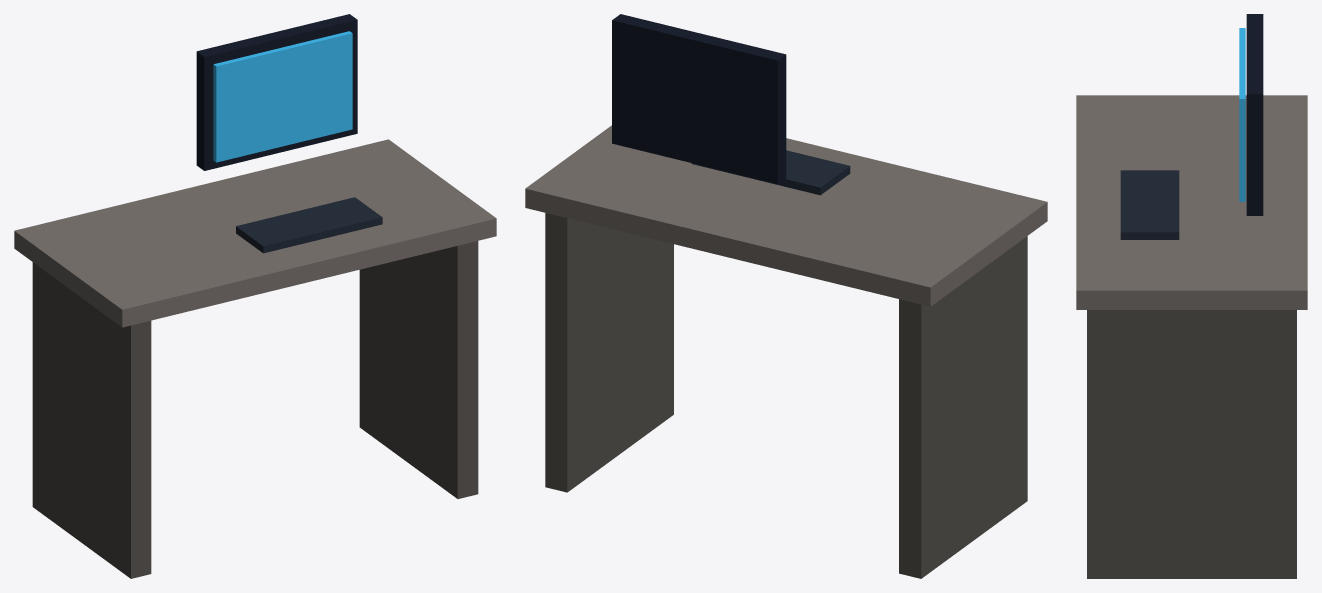
The model's file is parametric-source.glb.
3 renders of one model, left to right at view 1: azimuth 30°, elevation 25°; view 2: azimuth 150°, elevation 25°; view 3: azimuth 270°, elevation 25°, orthographic. The views are drawn at different scales.
Parts seen in each view (by area): view 1: openclinxr.equipment.observation_station_equipment.desk_surf, openclinxr.equipment.observation_station_equipment.leg_left, openclinxr.equipment.observation_station_equipment.leg_right, openclinxr.equipment.observation_station_equipment.display, openclinxr.equipment.observation_station_equipment.screen_be, openclinxr.equipment.observation_station_equipment.keyboard; view 2: openclinxr.equipment.observation_station_equipment.desk_surf, openclinxr.equipment.observation_station_equipment.leg_left, openclinxr.equipment.observation_station_equipment.leg_right, openclinxr.equipment.observation_station_equipment.screen_be, openclinxr.equipment.observation_station_equipment.keyboard; view 3: openclinxr.equipment.observation_station_equipment.leg_right, openclinxr.equipment.observation_station_equipment.desk_surf, openclinxr.equipment.observation_station_equipment.keyboard, openclinxr.equipment.observation_station_equipment.screen_be, openclinxr.equipment.observation_station_equipment.display.
Boxes of the visible parts, bbox=[...] form: openclinxr.equipment.observation_station_equipment.desk_surf: bbox=[14, 139, 496, 327]; openclinxr.equipment.observation_station_equipment.leg_left: bbox=[32, 262, 151, 578]; openclinxr.equipment.observation_station_equipment.leg_right: bbox=[359, 241, 478, 498]; openclinxr.equipment.observation_station_equipment.display: bbox=[213, 31, 352, 162]; openclinxr.equipment.observation_station_equipment.screen_be: bbox=[196, 14, 357, 170]; openclinxr.equipment.observation_station_equipment.keyboard: bbox=[236, 197, 382, 253]; openclinxr.equipment.observation_station_equipment.desk_surf: bbox=[525, 125, 1047, 306]; openclinxr.equipment.observation_station_equipment.leg_left: bbox=[899, 236, 1027, 578]; openclinxr.equipment.observation_station_equipment.leg_right: bbox=[545, 213, 673, 492]; openclinxr.equipment.observation_station_equipment.screen_be: bbox=[612, 14, 786, 183]; openclinxr.equipment.observation_station_equipment.keyboard: bbox=[691, 150, 850, 195]; openclinxr.equipment.observation_station_equipment.leg_right: bbox=[1087, 310, 1296, 578]; openclinxr.equipment.observation_station_equipment.desk_surf: bbox=[1076, 95, 1307, 309]; openclinxr.equipment.observation_station_equipment.keyboard: bbox=[1120, 170, 1179, 239]; openclinxr.equipment.observation_station_equipment.screen_be: bbox=[1246, 14, 1263, 215]; openclinxr.equipment.observation_station_equipment.display: bbox=[1239, 28, 1245, 201].
Size of the model in its own units: 1.1 by 1.21 by 0.55.
